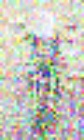Vehicle: (12, 12, 79, 136)
